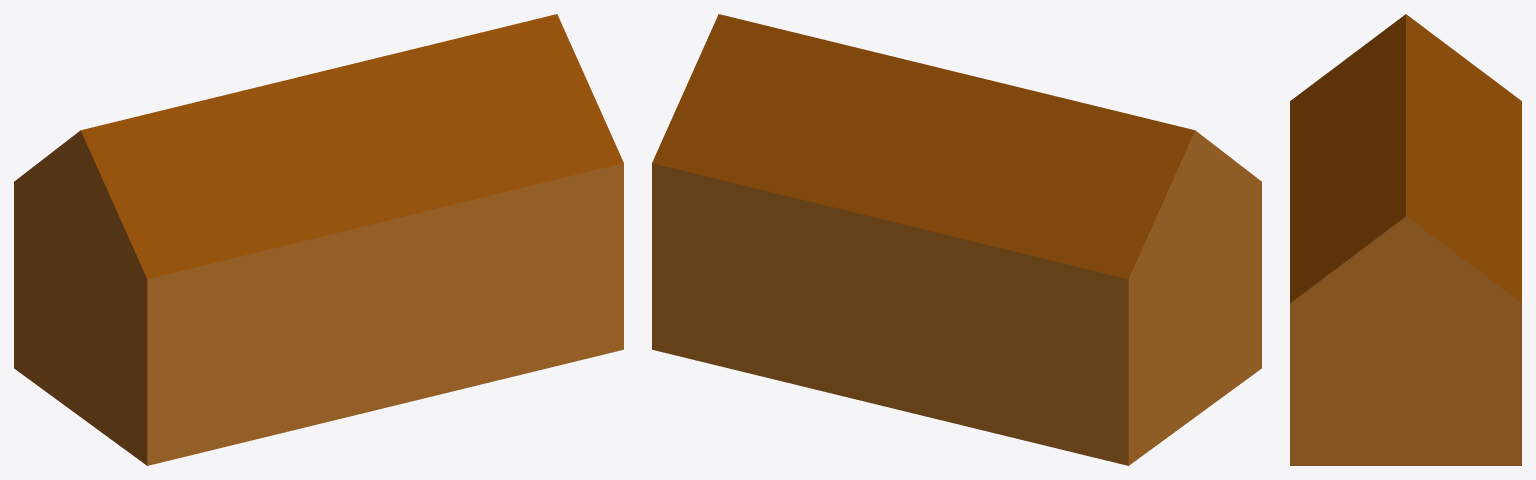
Rendered from House.fbx.
3 renders of one model, left to right at view 1: azimuth 30°, elevation 25°; view 2: azimuth 150°, elevation 25°; view 3: azimuth 270°, elevation 25°, orthographic. The views are drawn at different scales.
Parts seen in each view (by area): view 1: House; view 2: House; view 3: House.
Part boxes in pixels (x1,y1,x2,y2): House: [14, 14, 623, 465]; House: [652, 14, 1261, 465]; House: [1290, 14, 1521, 465].
Size of the model in its own units: 10.61 by 6.1 by 5.14.
